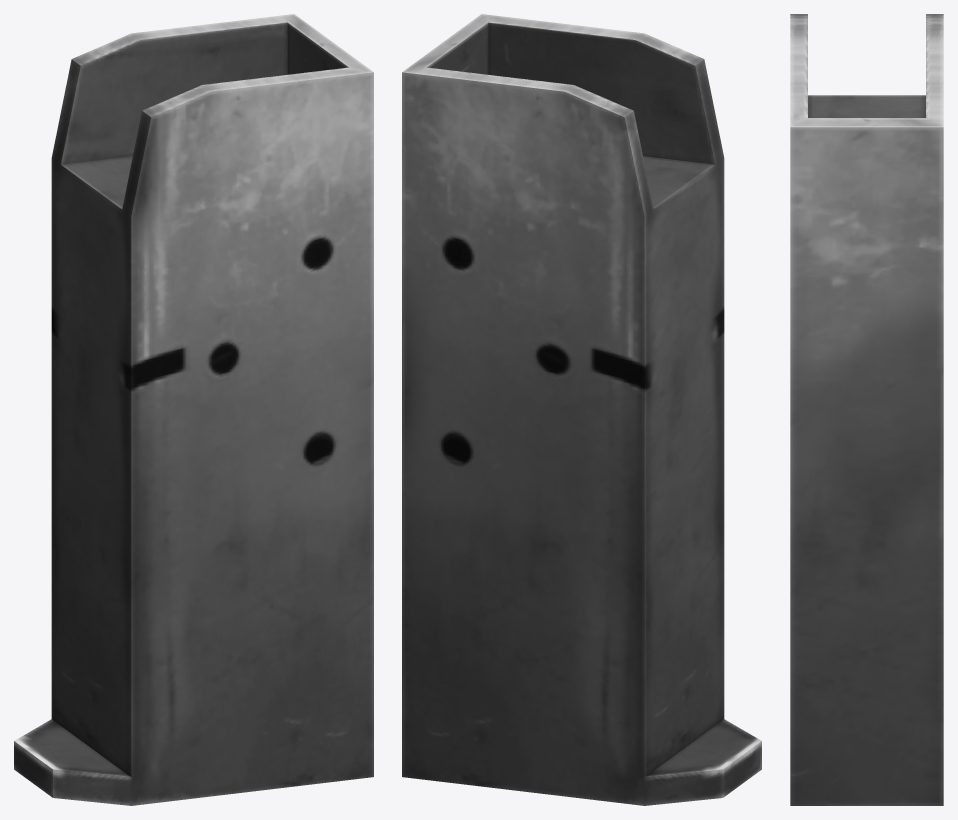
Rendered from SM_PRP_Pistols_Colt_Mag_01_A.glb.
The picture shows the model from 3 angles, left to right: view 1: azimuth 30°, elevation 25°; view 2: azimuth 150°, elevation 25°; view 3: azimuth 270°, elevation 25°; orthographic projection. The views are drawn at different scales.
Parts seen in each view (by area): view 1: SM_PRP_Pistols_Colt_Mag_01_A; view 2: SM_PRP_Pistols_Colt_Mag_01_A; view 3: SM_PRP_Pistols_Colt_Mag_01_A.
Part boxes in pixels (bbox=[...]): SM_PRP_Pistols_Colt_Mag_01_A: bbox=[14, 14, 373, 805]; SM_PRP_Pistols_Colt_Mag_01_A: bbox=[402, 14, 761, 805]; SM_PRP_Pistols_Colt_Mag_01_A: bbox=[790, 14, 943, 805].
Bounding box in the file's own units: 0.0457 × 0.1052 × 0.021.
Materials: 1 (1 with a texture image).
